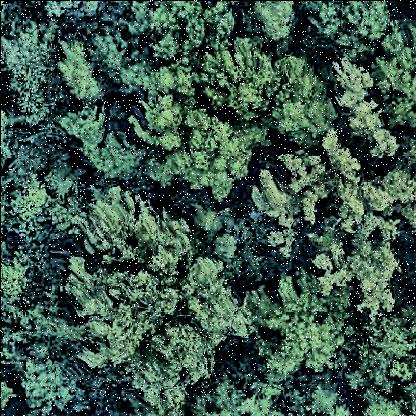tree-top: (65, 192, 244, 410), (145, 49, 279, 202), (255, 144, 416, 242), (304, 218, 407, 321), (248, 281, 349, 377), (322, 65, 404, 159), (297, 1, 399, 68), (270, 50, 338, 148), (339, 311, 416, 397), (134, 2, 239, 64), (2, 21, 65, 119), (199, 40, 279, 116), (373, 22, 416, 141), (53, 29, 103, 107), (14, 358, 82, 415), (90, 131, 142, 188), (249, 2, 307, 50)
